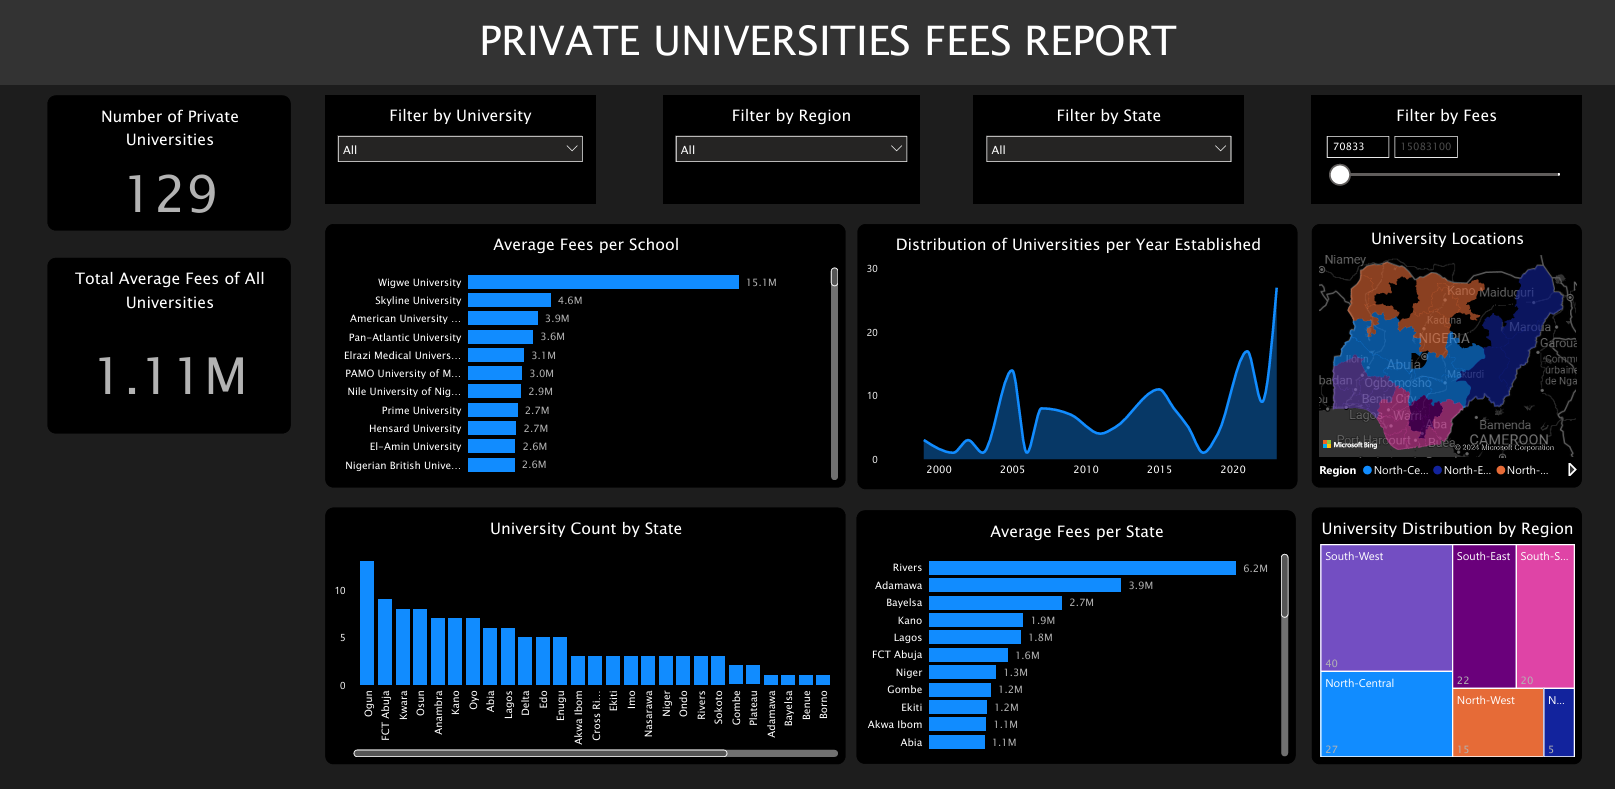

Layout of this report page (visuals, bound fields, positions):
{"tool":"powerbi","page":{"name":"Duplicate of Page 1","canvas":[1920,1080],"ordinal":1},"visuals":[{"type":"shape","box":[0,0,1920,100],"z":0},{"type":"barChart","title":"Average Fees by State","fields":{"Category":["private_uni_excel.State"],"Y":["private_uni_excel.Fees"]},"box":[1013.3,603.3,520,300],"z":1000},{"type":"columnChart","title":"University Count by State","fields":{"Category":["private_uni_excel.State"],"Y":["private_uni_excel.University Name"]},"box":[384,600,616,304],"z":2000},{"type":"barChart","title":"Average Fees per School","fields":{"Category":["private_uni_excel.University Name"],"Y":["private_uni_excel.Fees"]},"box":[384,264,616,312],"z":3000},{"type":"textbox","title":"Private Universities Fee Report","box":[505.7,7.1,948.6,84.3],"z":4000},{"type":"filledMap","title":"Region Map View","fields":{"Category":["private_uni_excel.State"],"Series":["private_uni_excel.Region"]},"box":[1552,264,320,312],"z":5000},{"type":"card","title":"Count of Private Universities ","fields":{"Values":["private_uni_excel.University Name"]},"box":[48,128,288,160],"z":6000},{"type":"card","title":"Average Fees of Private Universities ","fields":{"Values":["private_uni_excel.Fees"]},"box":[48,336,288,208],"z":7000},{"type":"areaChart","title":"Uni Years Established","fields":{"Category":["private_uni_excel.Year Established"],"Y":["private_uni_excel.University Name"]},"box":[1014.3,264.3,521.4,314.3],"z":8000},{"type":"slicer","title":"Filter by University","fields":{"Values":["private_uni_excel.University Name"]},"box":[384,112,320,128],"z":9000},{"type":"slicer","title":"Filter by Region","fields":{"Values":["private_uni_excel.Region"]},"box":[784,112,304,128],"z":10000},{"type":"slicer","title":"Filter by State","fields":{"Values":["private_uni_excel.State"]},"box":[1152,112,320,128],"z":11000},{"type":"treemap","title":"Universities Count By Region","fields":{"Details":["private_uni_excel.Region"],"Values":["private_uni_excel.University Name"]},"box":[1552,600,320,304],"z":12000},{"type":"slicer","title":"Filter by Fees","fields":{"Values":["private_uni_excel.Fees"]},"box":[1552,112,320,128],"z":13000}]}

Visuals, with their boxes on the page's 1920x1080 design canvas (x1, y1, x2, y2). These are canvas units, not pixel positions in the 1615x789 screenshot, which may show the page scaled, cropped or inside an application window:
shape: (0, 0, 1920, 100)
"Average Fees by State" barChart: (1013, 603, 1533, 903)
"University Count by State" columnChart: (384, 600, 1000, 904)
"Average Fees per School" barChart: (384, 264, 1000, 576)
"Private Universities Fee Report" textbox: (506, 7, 1454, 91)
"Region Map View" filledMap: (1552, 264, 1872, 576)
"Count of Private Universities " card: (48, 128, 336, 288)
"Average Fees of Private Universities " card: (48, 336, 336, 544)
"Uni Years Established" areaChart: (1014, 264, 1536, 579)
"Filter by University" slicer: (384, 112, 704, 240)
"Filter by Region" slicer: (784, 112, 1088, 240)
"Filter by State" slicer: (1152, 112, 1472, 240)
"Universities Count By Region" treemap: (1552, 600, 1872, 904)
"Filter by Fees" slicer: (1552, 112, 1872, 240)
